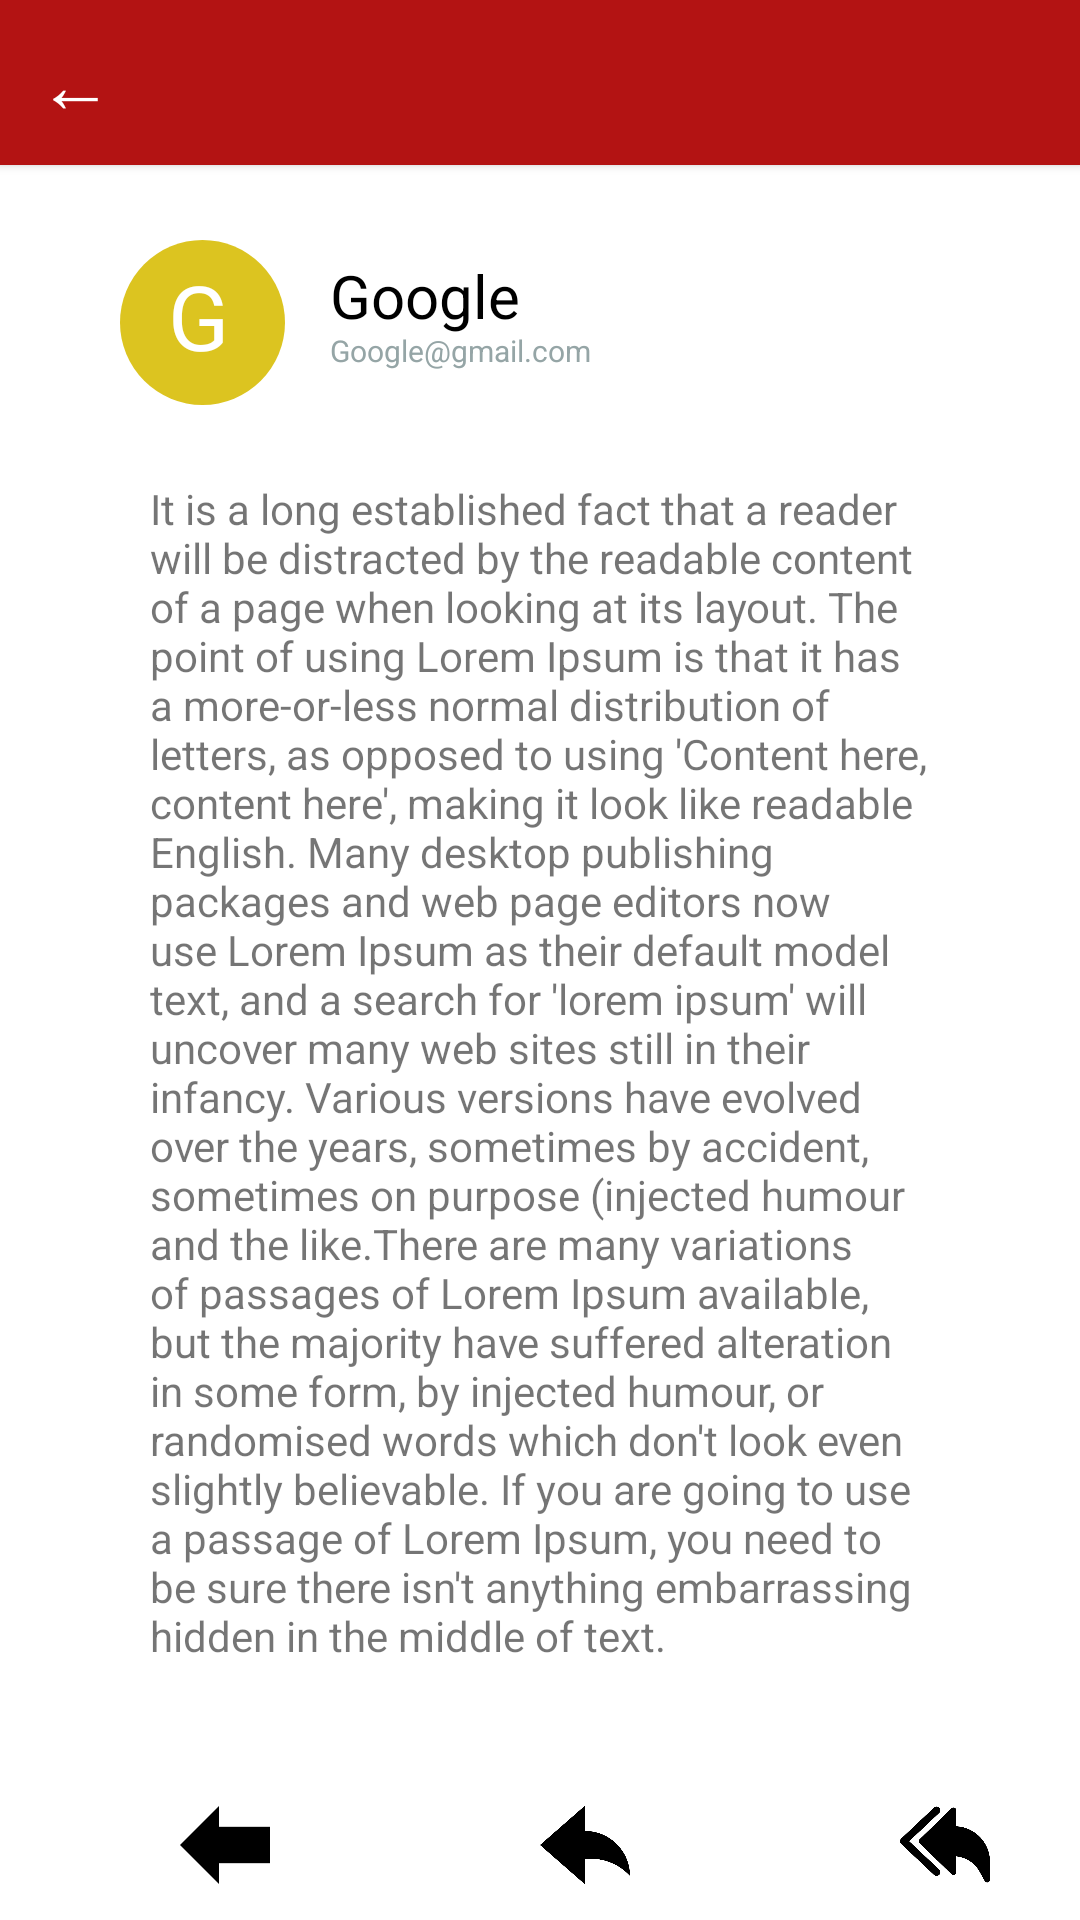

Screen size 1080px×1920px. Icon name, then its center in pixels as point (x, y):
reply: point (585, 1845)
replyall: point (945, 1844)
